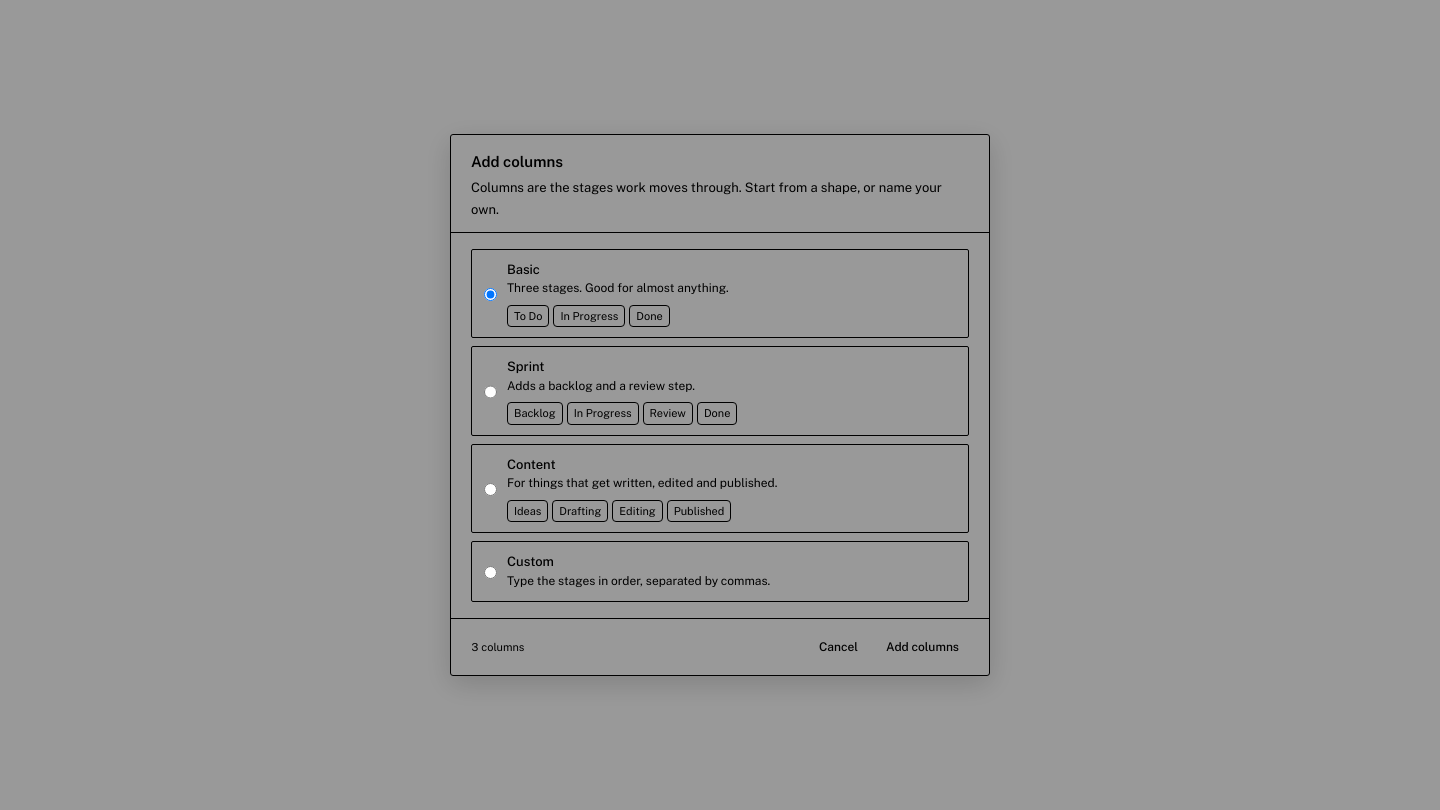
Test: SeedColumnsDialog › stays quiet about an empty field nobody has typed in yet
Click the radio button labelled "Custom Type the stages in order, separated by commas.".
click(490, 573)  # box [484, 554, 497, 591]
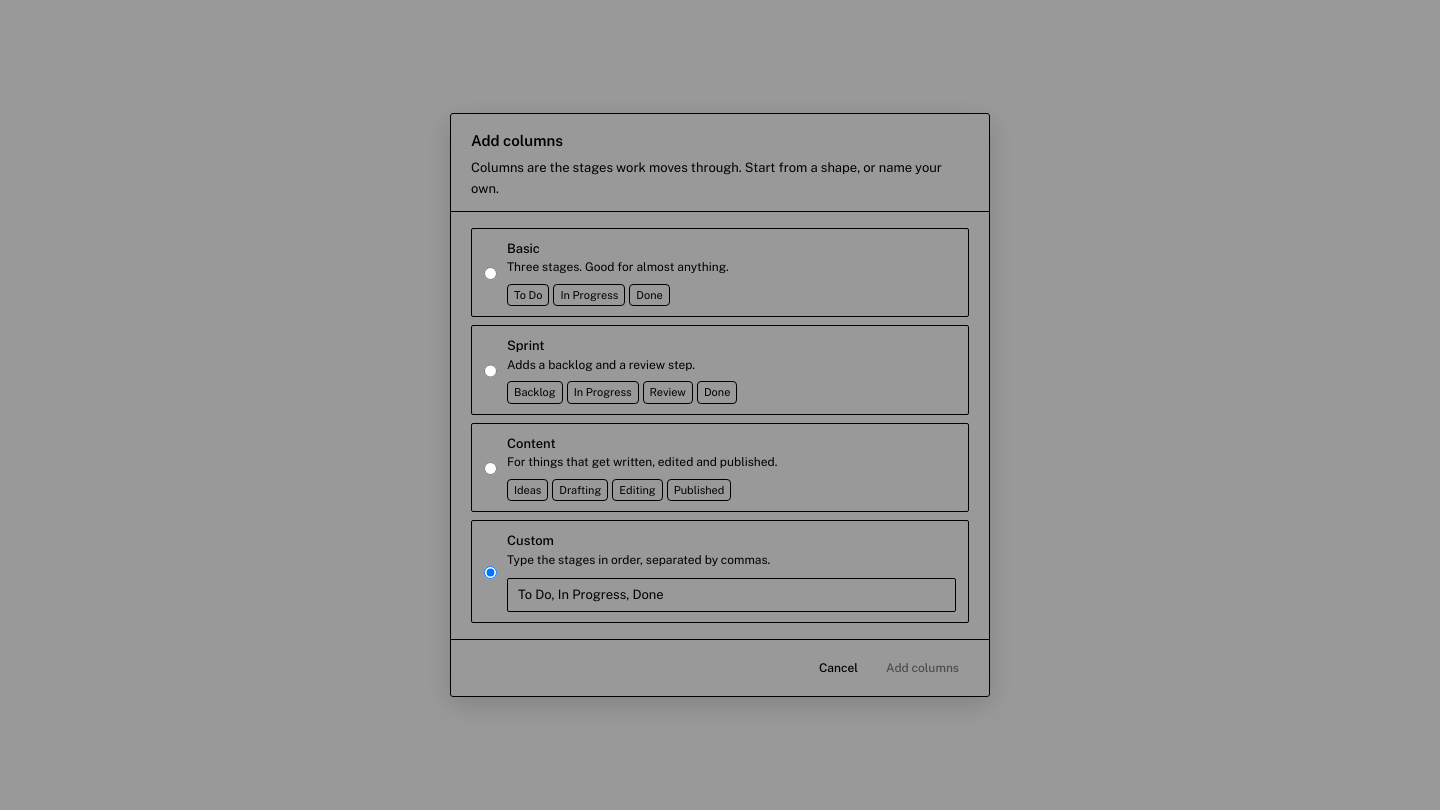
Check: the button "Add columns" is disabled, box [876, 654, 969, 682]
